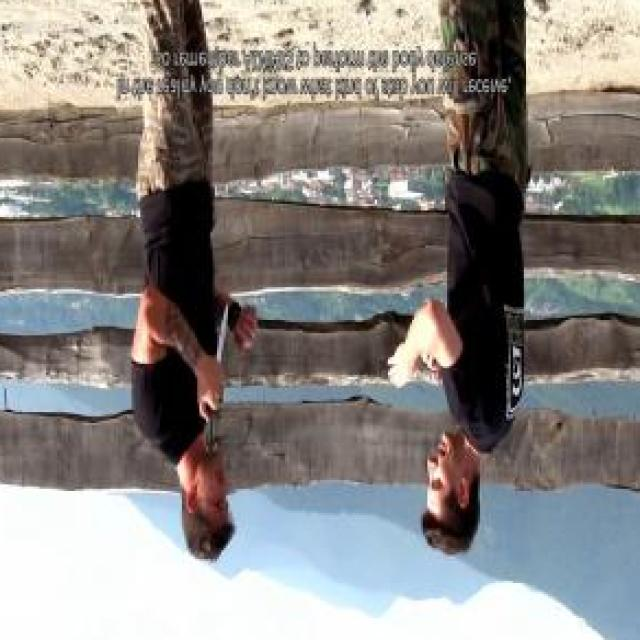knife: (197, 298, 230, 425)
